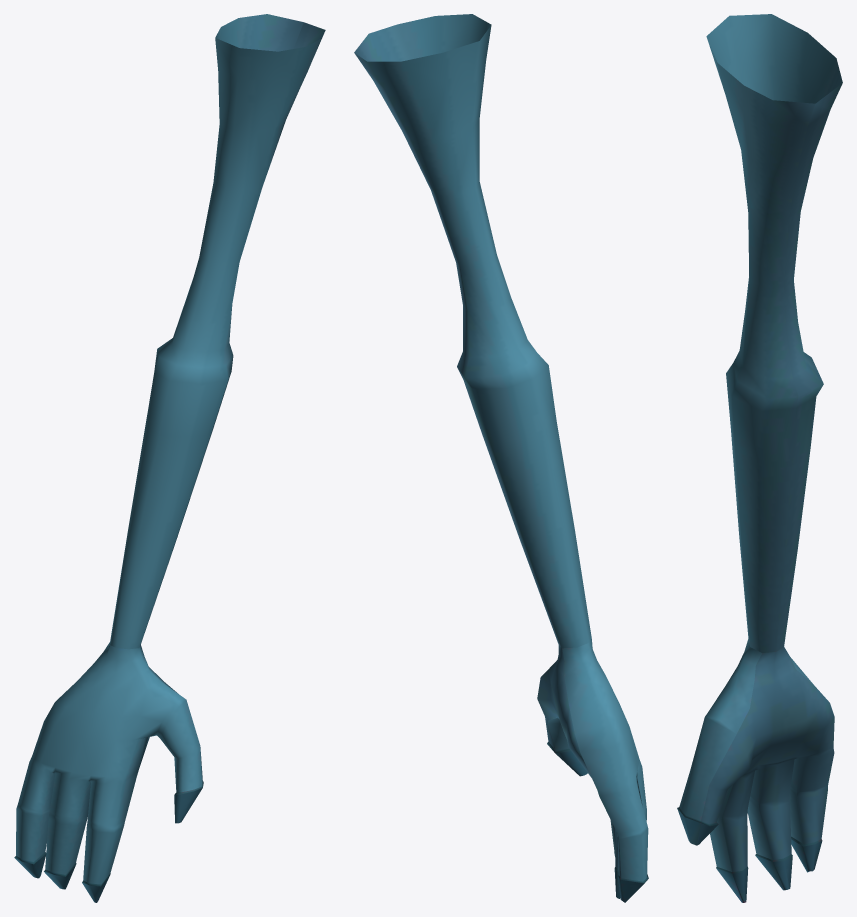
File: PanicoBDer.obj
The picture shows the model from 3 angles, left to right: view 1: azimuth 30°, elevation 25°; view 2: azimuth 150°, elevation 25°; view 3: azimuth 270°, elevation 25°; orthographic projection. The views are drawn at different scales.
Visible parts, largest first — view 1: Brazo_derecho; view 2: Brazo_derecho; view 3: Brazo_derecho.
Boxes of the visible parts, box(x1,y1,x2,y2) form: Brazo_derecho: box(14, 14, 325, 902); Brazo_derecho: box(354, 14, 648, 902); Brazo_derecho: box(677, 14, 842, 902).
Size of the model in its own units: 1.38 by 3.71 by 0.5778.
